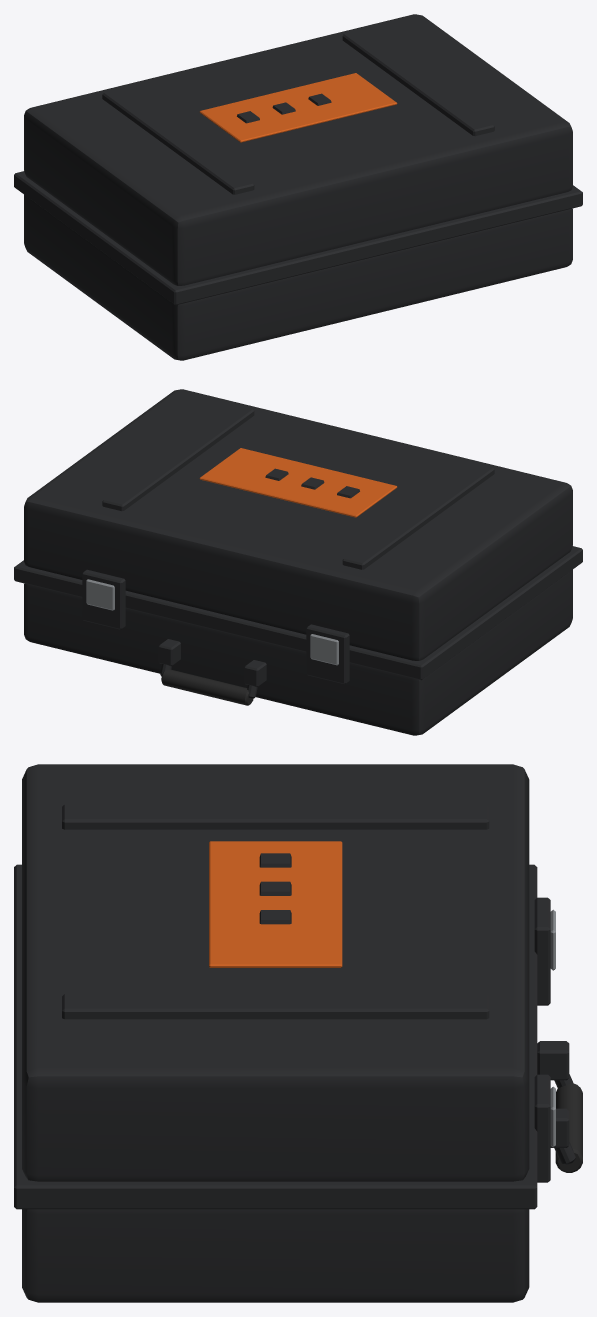
File: prop_deploy_body_bag_case.glb
3 views of the same model, one above another, from view 1: azimuth 30°, elevation 25°; view 2: azimuth 150°, elevation 25°; view 3: azimuth 270°, elevation 25° (orthographic). The views are drawn at different scales.
Visible parts, largest first — view 1: Body; view 2: Body; view 3: Body.
Boxes of the visible parts, <box> form: Body: <box>14,14,582,360</box>; Body: <box>14,389,582,735</box>; Body: <box>14,764,582,1302</box>.
Bounding box in the file's own units: 0.572 × 0.215 × 0.4262.
